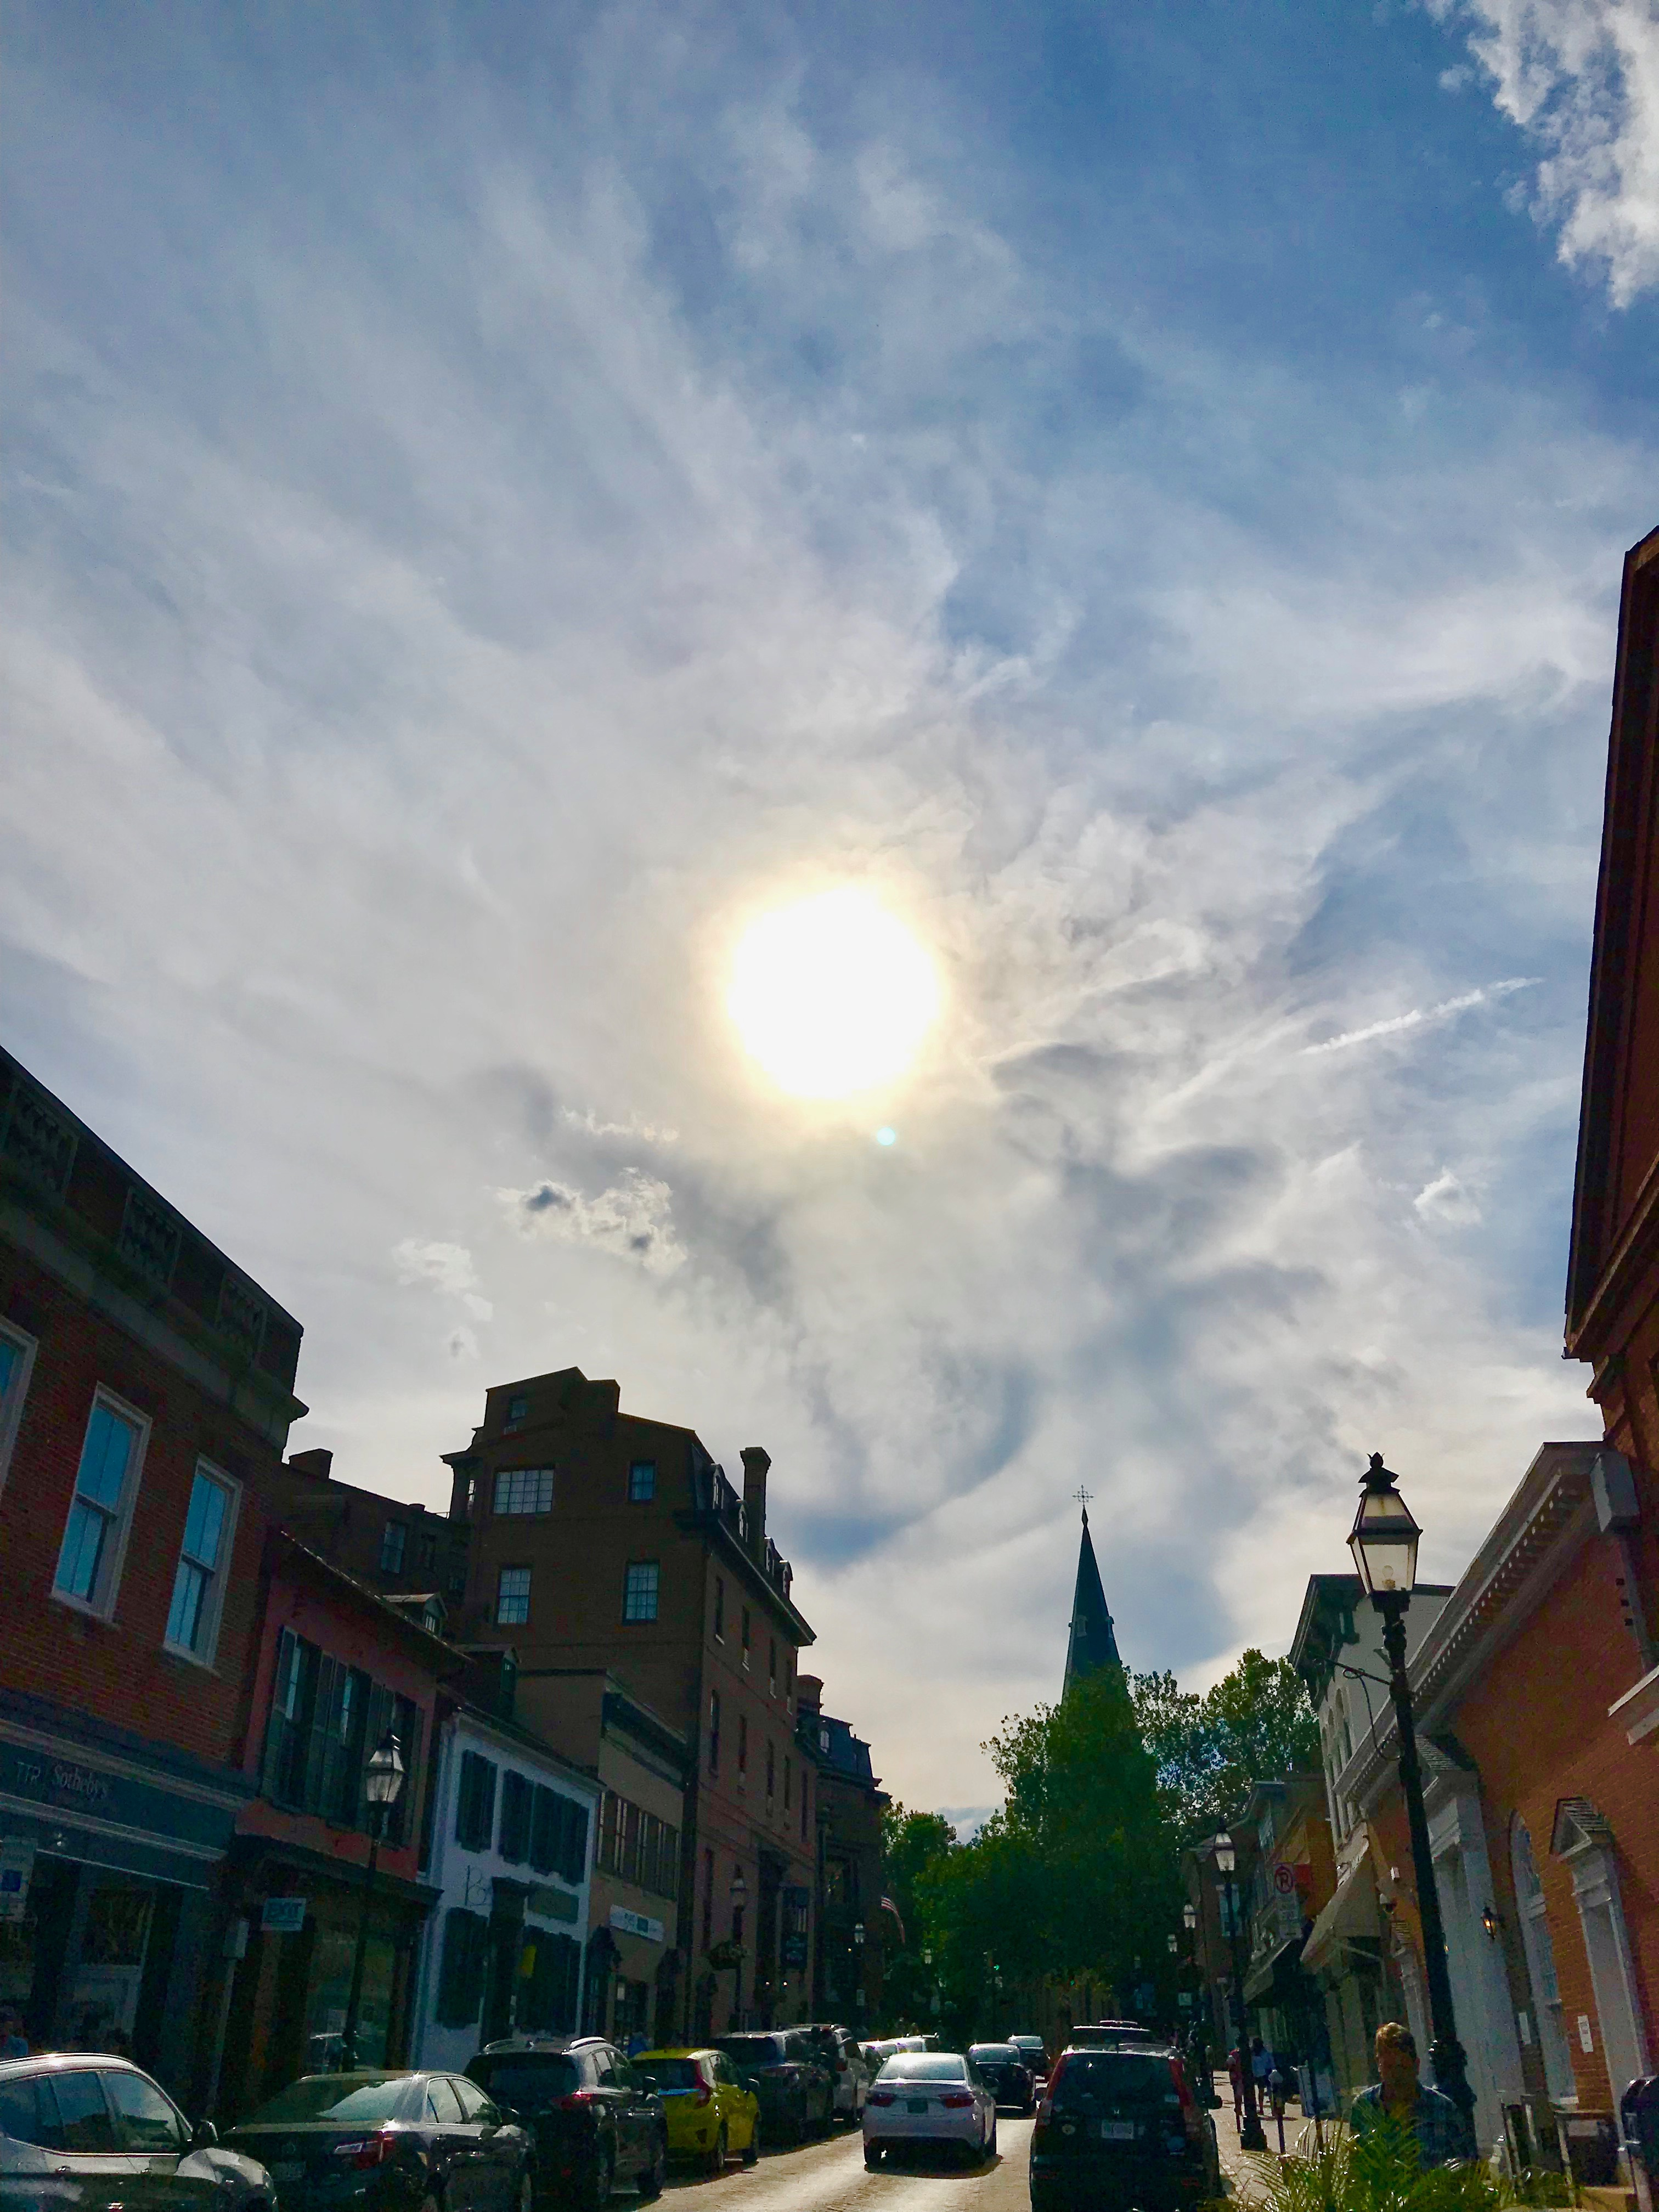flare: (875, 1125, 897, 1148)
